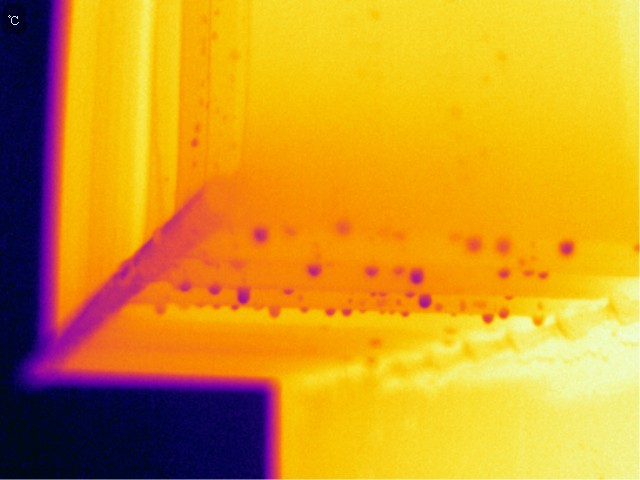Water: (363, 291, 413, 319), (329, 218, 365, 243), (417, 290, 447, 314), (558, 235, 583, 262), (480, 305, 509, 328), (406, 264, 431, 288), (462, 233, 486, 256), (299, 260, 328, 278), (249, 226, 275, 246), (521, 267, 554, 282), (493, 237, 518, 256), (235, 284, 255, 305), (203, 281, 227, 298), (173, 276, 197, 292), (267, 302, 285, 322), (363, 262, 384, 279), (524, 312, 546, 328), (495, 264, 513, 282), (152, 304, 175, 318), (339, 305, 357, 320), (322, 305, 338, 321), (282, 283, 298, 297), (297, 305, 309, 317)
